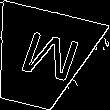M_S: (5, 28, 76, 89)
